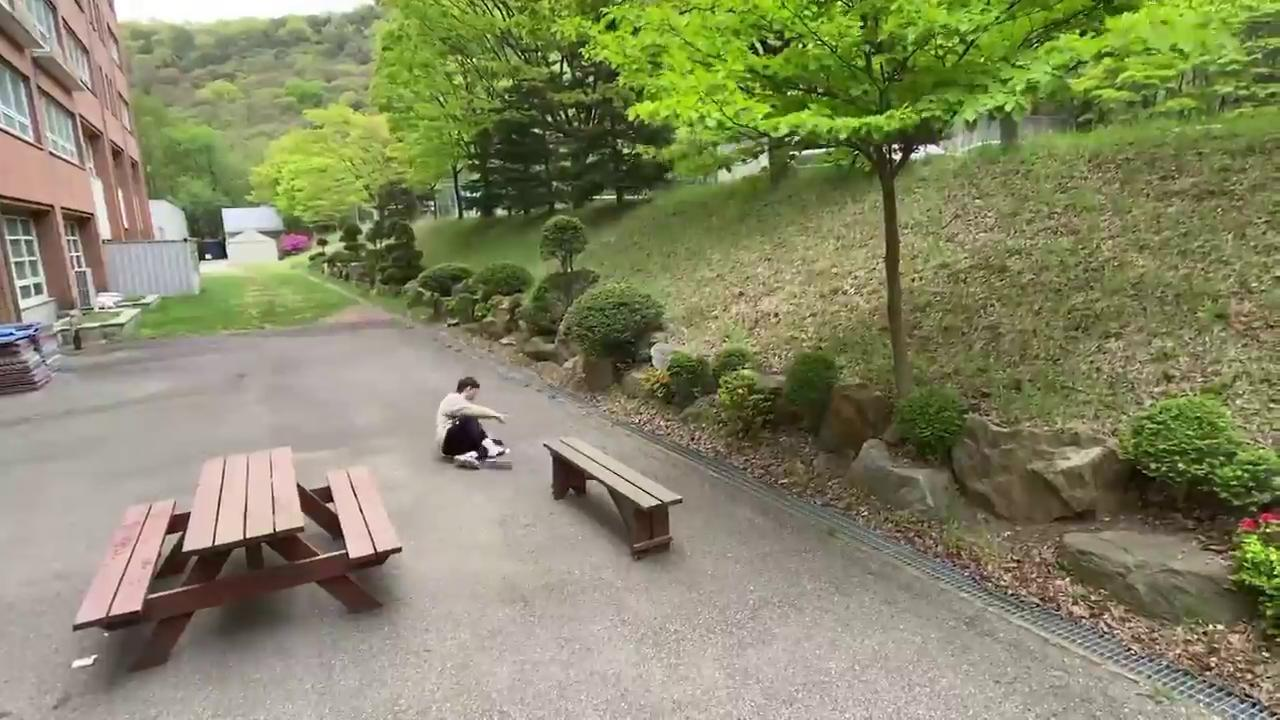fall_down: (433, 375, 517, 475)
